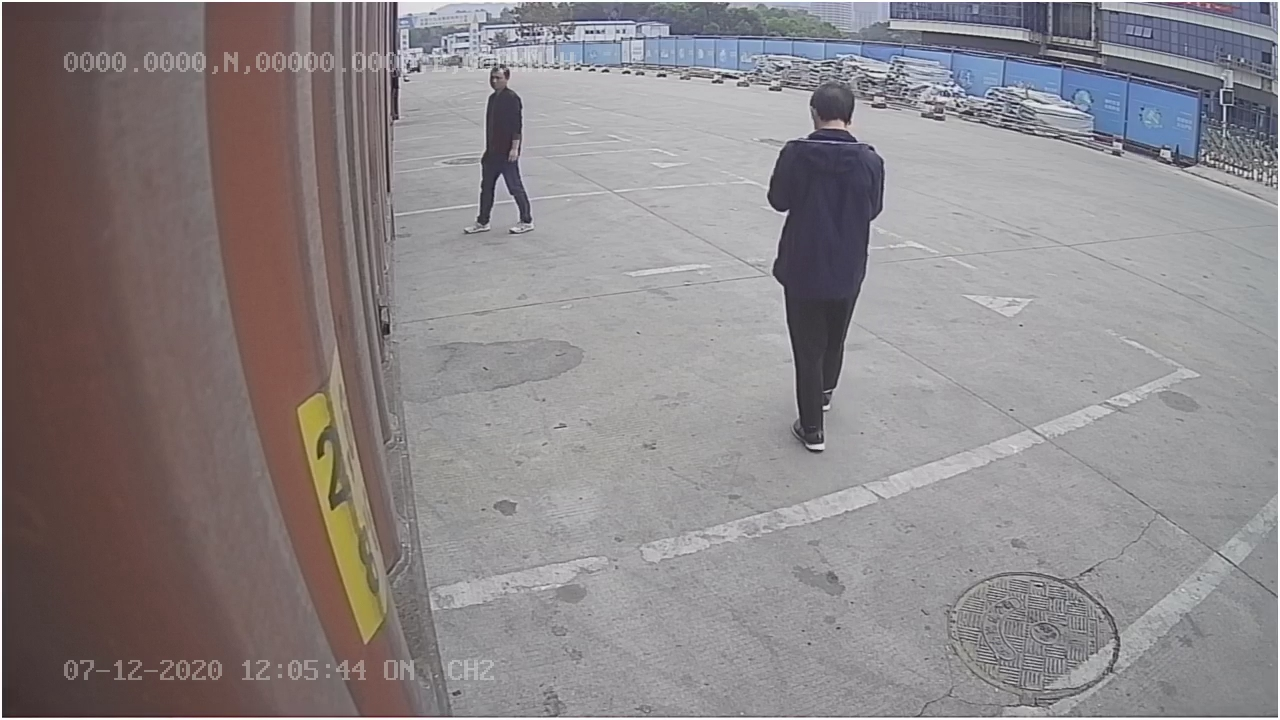person: (764, 73, 886, 453)
